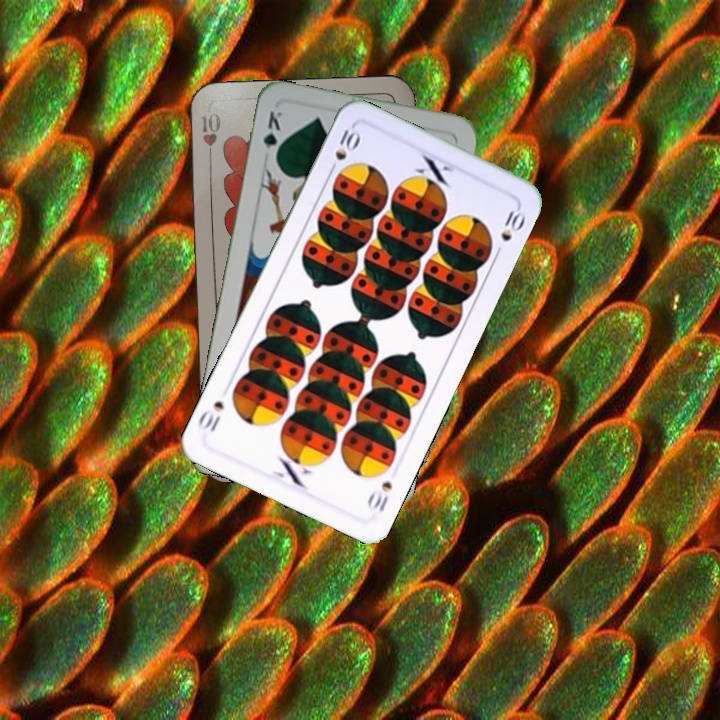GK: (258, 107, 285, 165)
H10: (197, 109, 223, 166)
S10: (324, 121, 363, 177), (363, 477, 395, 514)
